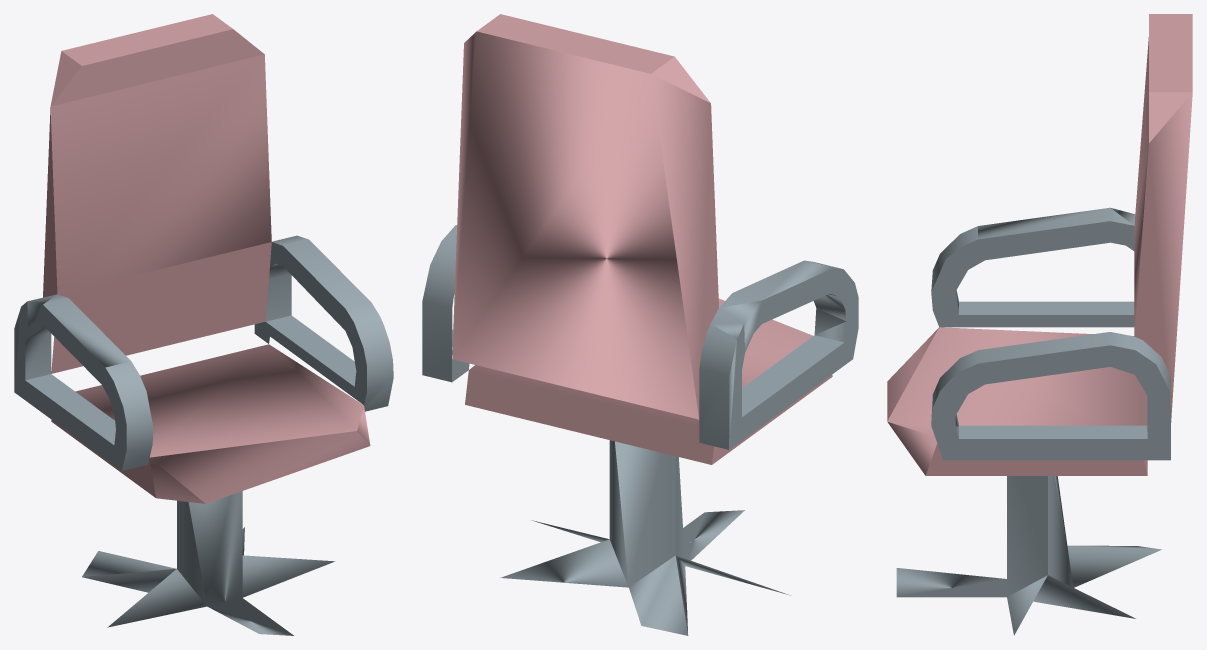
File: chairDesk.glb
3 renders of one model, left to right at view 1: azimuth 30°, elevation 25°; view 2: azimuth 150°, elevation 25°; view 3: azimuth 270°, elevation 25°, orthographic. The views are drawn at different scales.
Parts seen in each view (by area): view 1: chair, Mesh chairDesk; view 2: chair, Mesh chairDesk; view 3: chair, Mesh chairDesk.
Part boxes in pixels (bbox=[...]): chair: bbox=[14, 14, 393, 503]; Mesh chairDesk: bbox=[82, 491, 334, 635]; chair: bbox=[422, 14, 858, 464]; Mesh chairDesk: bbox=[500, 440, 790, 635]; chair: bbox=[887, 14, 1192, 475]; Mesh chairDesk: bbox=[896, 476, 1161, 635].
Bounding box in the file's own units: 0.3351 × 0.6077 × 0.3146.
